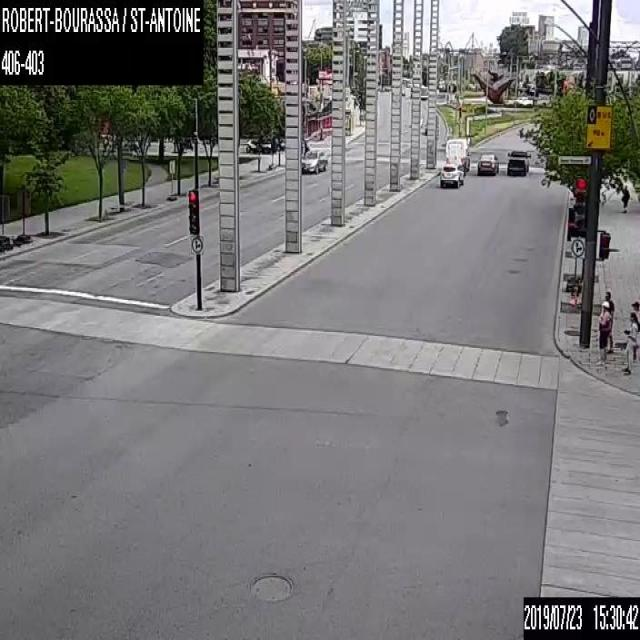pedestrian: (622, 312, 637, 374), (597, 299, 611, 362), (602, 290, 615, 352), (630, 300, 639, 362), (621, 184, 628, 213)
vehicle: (445, 136, 469, 175), (506, 146, 530, 174), (301, 147, 327, 172), (439, 163, 464, 187), (477, 152, 498, 175)
